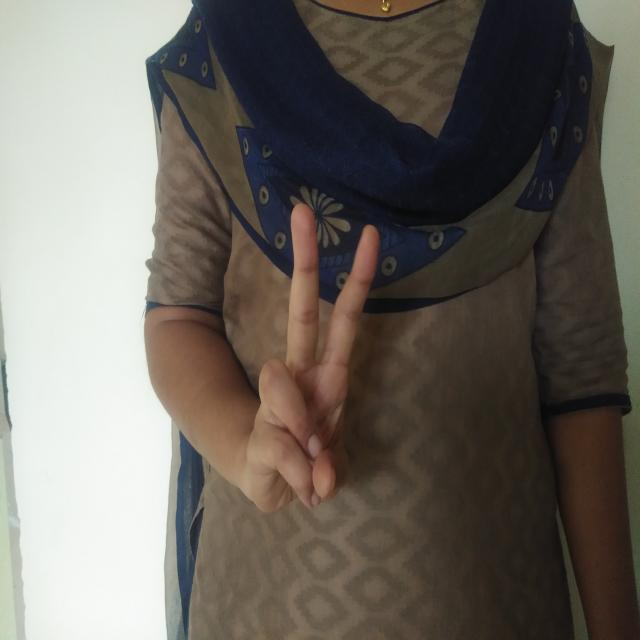V: (216, 181, 399, 539)
